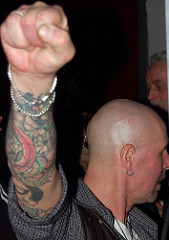fist: (1, 1, 78, 80)
